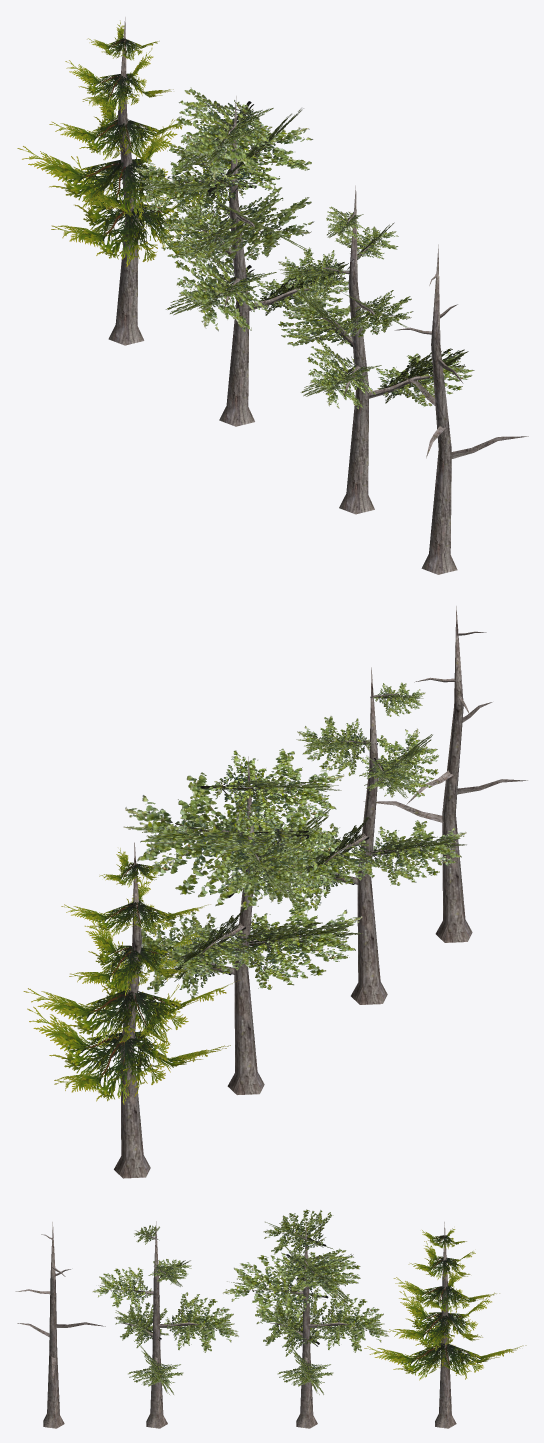
The model's file is Arboles low poy.dae.
3 views of the same model, one above another, from view 1: azimuth 30°, elevation 25°; view 2: azimuth 150°, elevation 25°; view 3: azimuth 270°, elevation 25° (orthographic). The views are drawn at different scales.
Visible parts, largest first — view 1: Arbol3, Arbol4, Arbol, Arbol1; view 2: Arbol3, Arbol4, Arbol, Arbol1; view 3: Arbol3, Arbol4, Arbol, Arbol1.
Part boxes in pixels (x1,y1,x2,y2): Arbol3: (134, 87, 348, 426); Arbol4: (17, 17, 202, 345); Arbol: (278, 185, 474, 514); Arbol1: (394, 244, 528, 574); Arbol3: (116, 748, 363, 1094); Arbol4: (23, 842, 239, 1178); Arbol: (262, 667, 466, 1004); Arbol1: (363, 606, 527, 942); Arbol3: (222, 1209, 388, 1428); Arbol4: (364, 1222, 526, 1428); Arbol: (92, 1221, 238, 1428); Arbol1: (15, 1222, 105, 1428).
Size of the model in its own units: 43.74 by 126 by 56.11.
Materials: 3 (3 with a texture image).
